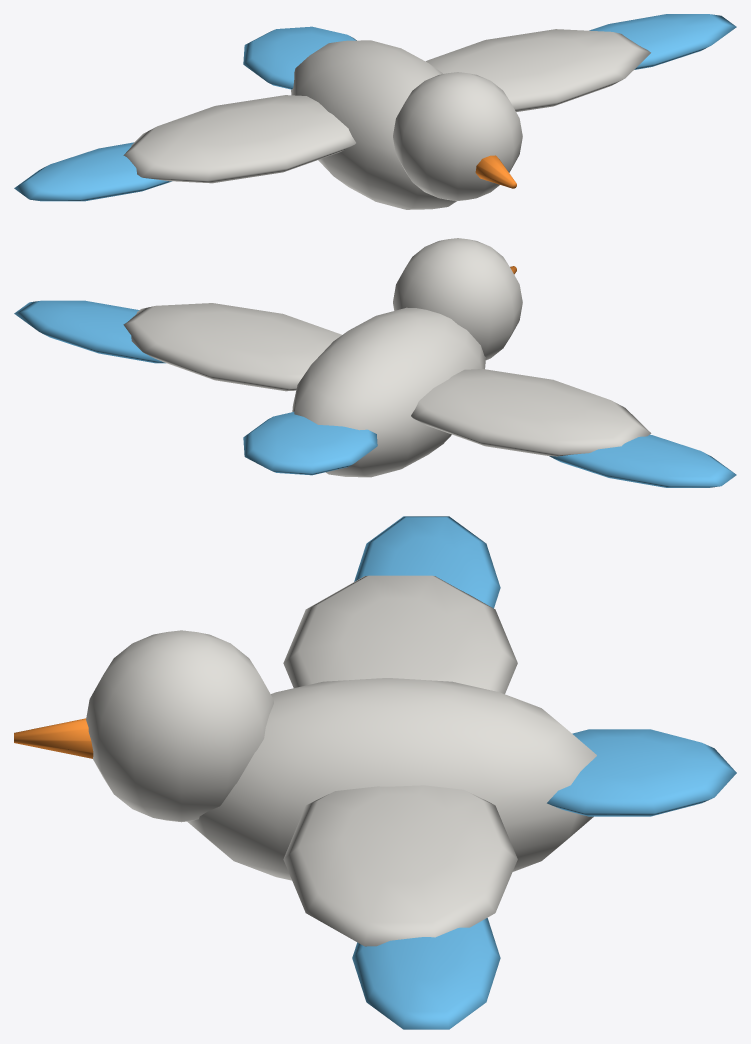
File: Seagull3D.fbx
3 views of the same model, one above another, from view 1: azimuth 30°, elevation 25°; view 2: azimuth 150°, elevation 25°; view 3: azimuth 270°, elevation 25° (orthographic). The views are drawn at different scales.
Visible parts, largest first — view 1: GullBody, WingL, WingR; view 2: GullBody, WingL, WingR; view 3: GullBody, WingR, WingL.
Part boxes in pixels (x1,y1,x2,y2): GullBody: (243,26,522,209); WingL: (14,95,355,201); WingR: (426,14,736,111); GullBody: (243,238,522,477); WingL: (411,369,736,487); WingR: (14,300,341,391); GullBody: (14,630,736,880); WingR: (283,785,517,1029); WingL: (283,516,517,693).
Bounding box in the file's own units: 1.88 × 0.415 × 1.12.
